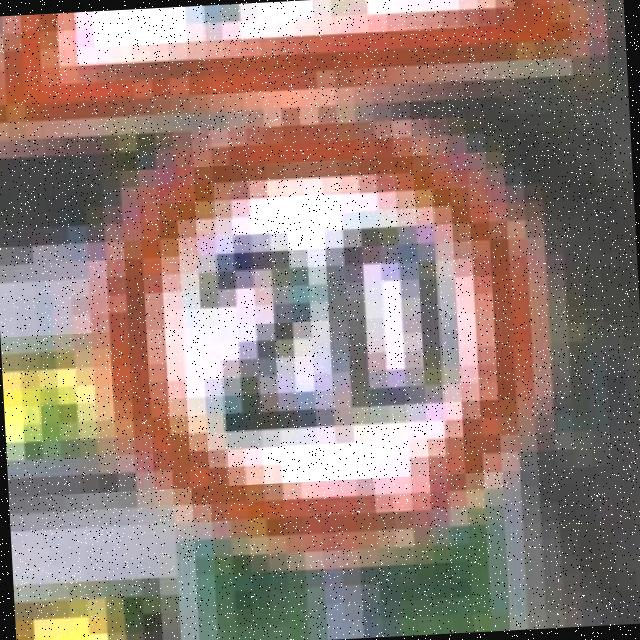Ograniczenie predkosci do 20: (81, 112, 580, 581)
